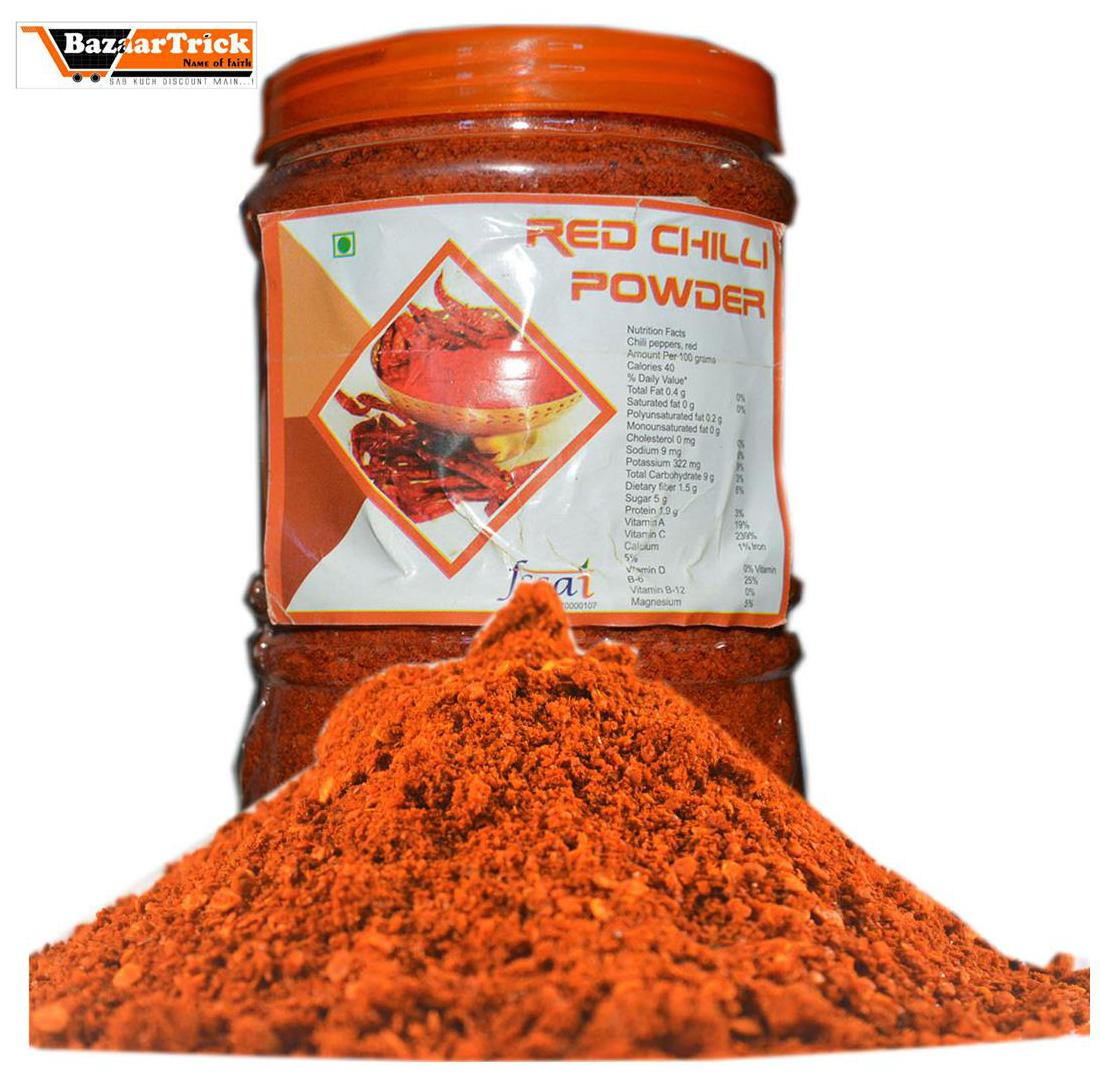JAR: (235, 17, 817, 900)
